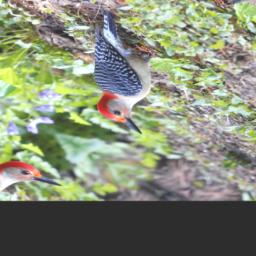Woodpecker: (15, 8, 229, 136)
